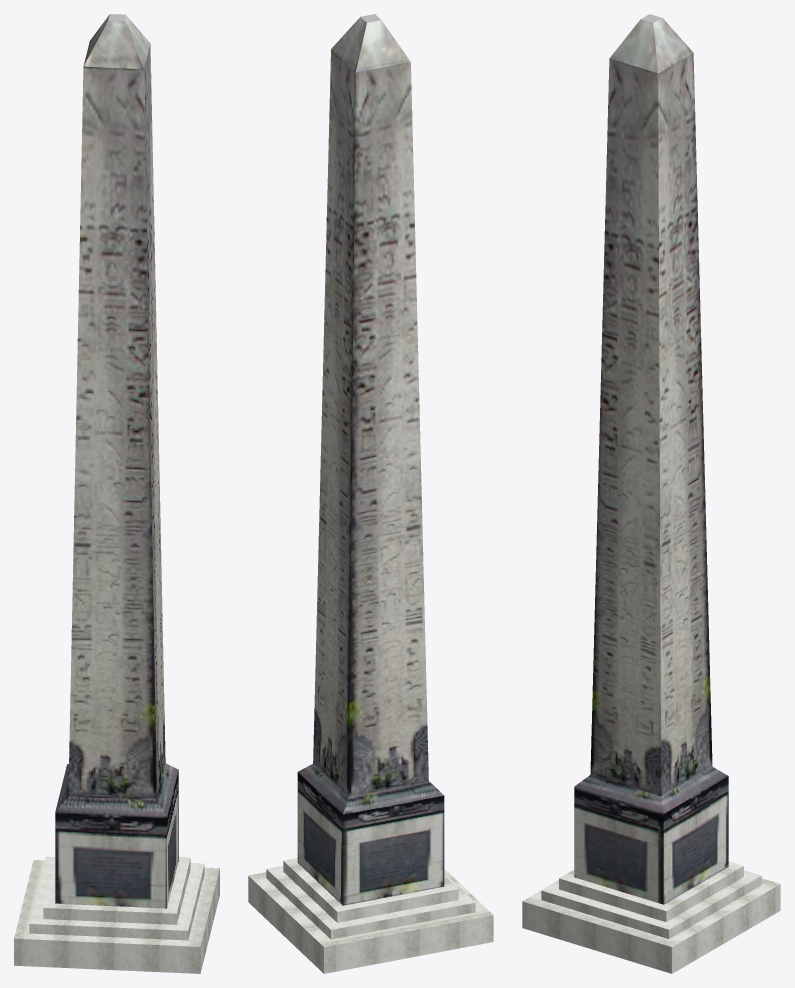
The picture shows the model from 3 angles, left to right: view 1: azimuth 30°, elevation 25°; view 2: azimuth 150°, elevation 25°; view 3: azimuth 270°, elevation 25°; orthographic projection.
Parts seen in each view (by area): view 1: SketchUp; view 2: SketchUp; view 3: SketchUp.
Boxes of the visible parts, x1,y1,x2,y2 form: SketchUp: (14,14,219,973); SketchUp: (248,14,493,973); SketchUp: (522,14,780,973).
Size of the model in its own units: 6.15 by 23.63 by 6.15.
Materials: 1 (1 with a texture image).
